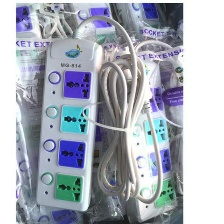three_eye_plug: (104, 51, 180, 224), (31, 32, 103, 214)
